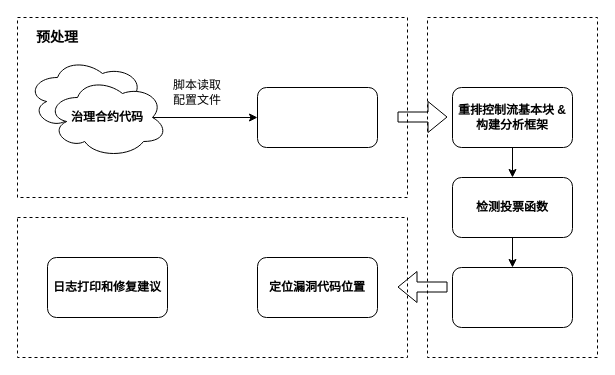
Image size: 615x375. Some labels were removed from this diagram. The shapes that lost their labels are listed below. From the top down, each one's centre as x and y in pixels, then its label:
(x=317, y=117): Solc编译 & Slither生成IR
(x=512, y=297): 确定污染源& 污点传播
